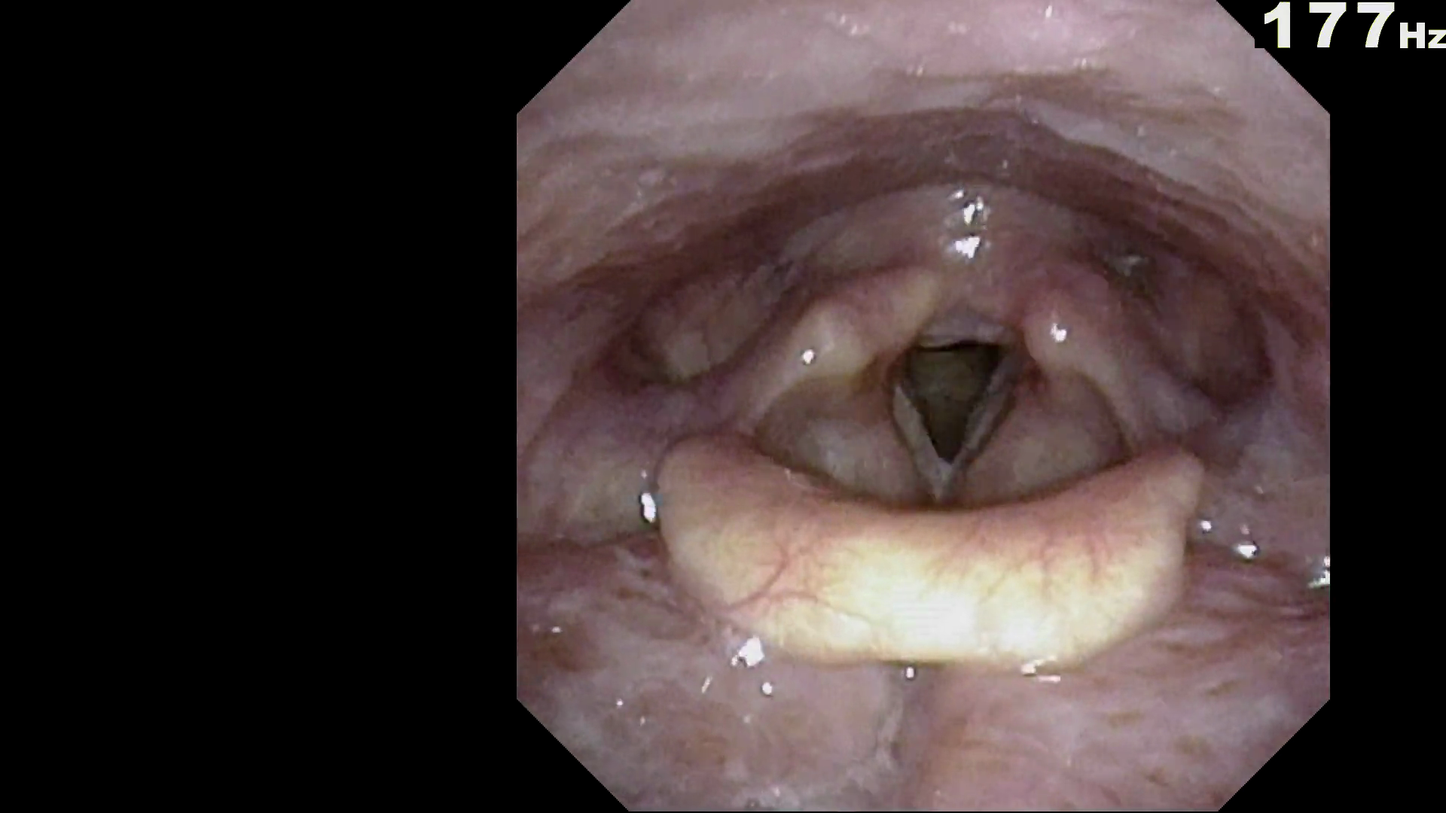epiglottis: (657, 426, 1203, 678)
trachea: (869, 290, 1038, 490)
